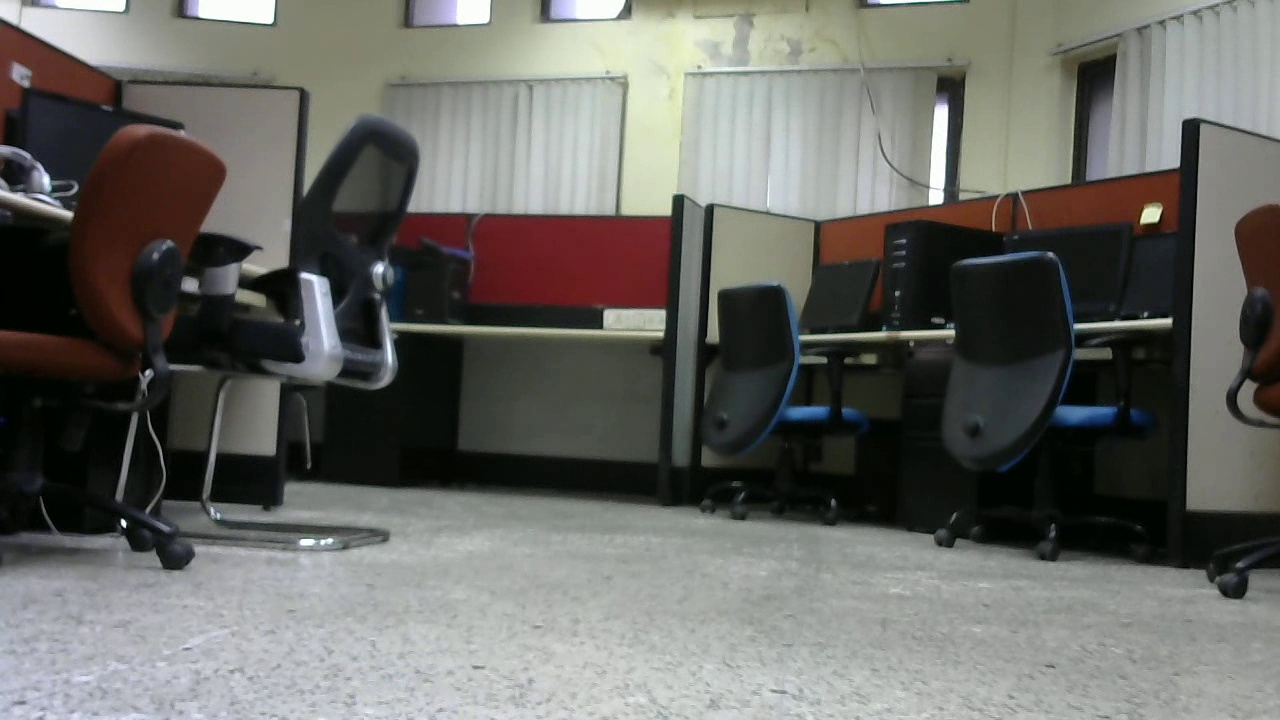chair: (1, 119, 236, 582), (232, 104, 428, 556), (922, 254, 1156, 567), (694, 273, 866, 526)
